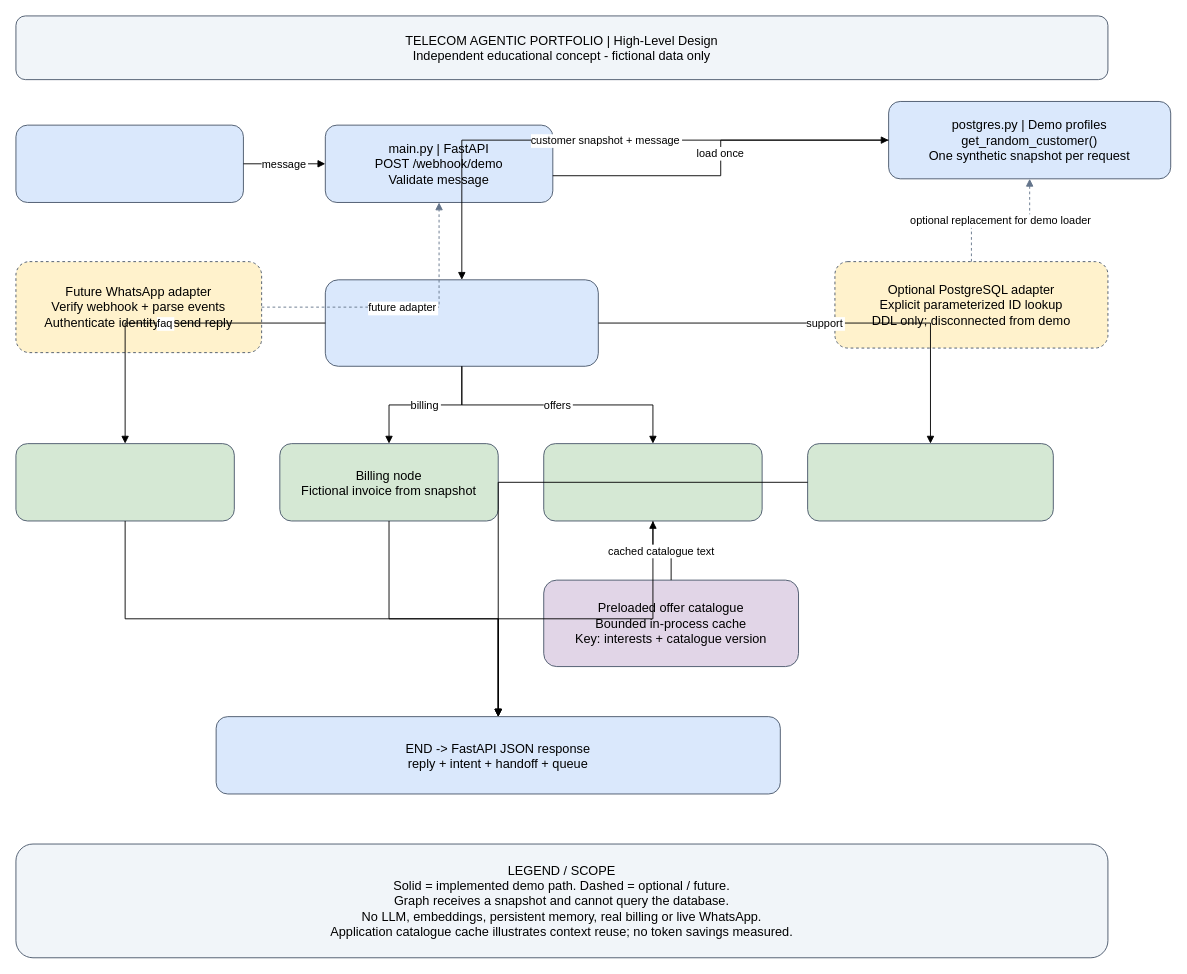
The diagram is 1187 pixels wide and 974 high, and some of its shapes have lost their labels. Each missing label, with the box of its shape:
Demo client JSON: {message}: (15, 124, 243, 202)
FAQ node Plan introduction: (15, 443, 234, 521)
graph.py | LangGraph START -> classify Portuguese keyword routing: (324, 279, 598, 366)
Offer node Check marketing opt-in Match interests: (543, 443, 762, 521)
Support node Simulated human handoff queue: customer_service: (807, 443, 1053, 521)
